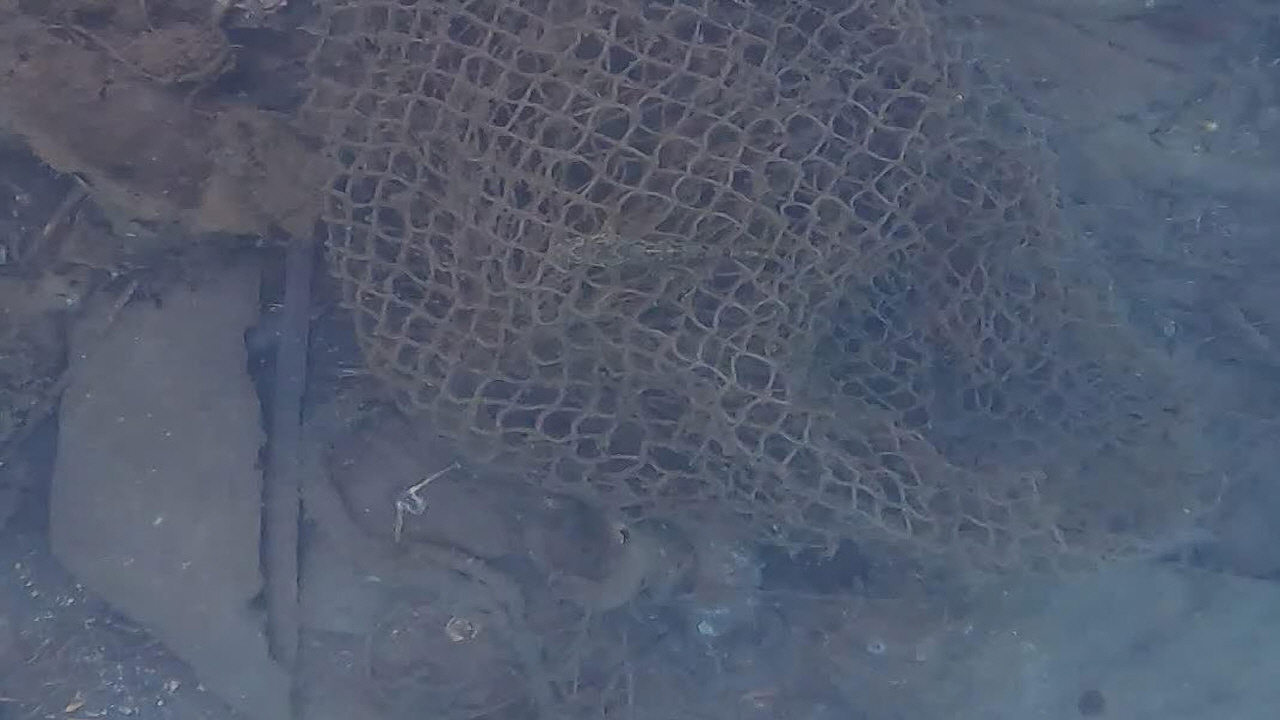fish net: (296, 0, 1116, 578)
